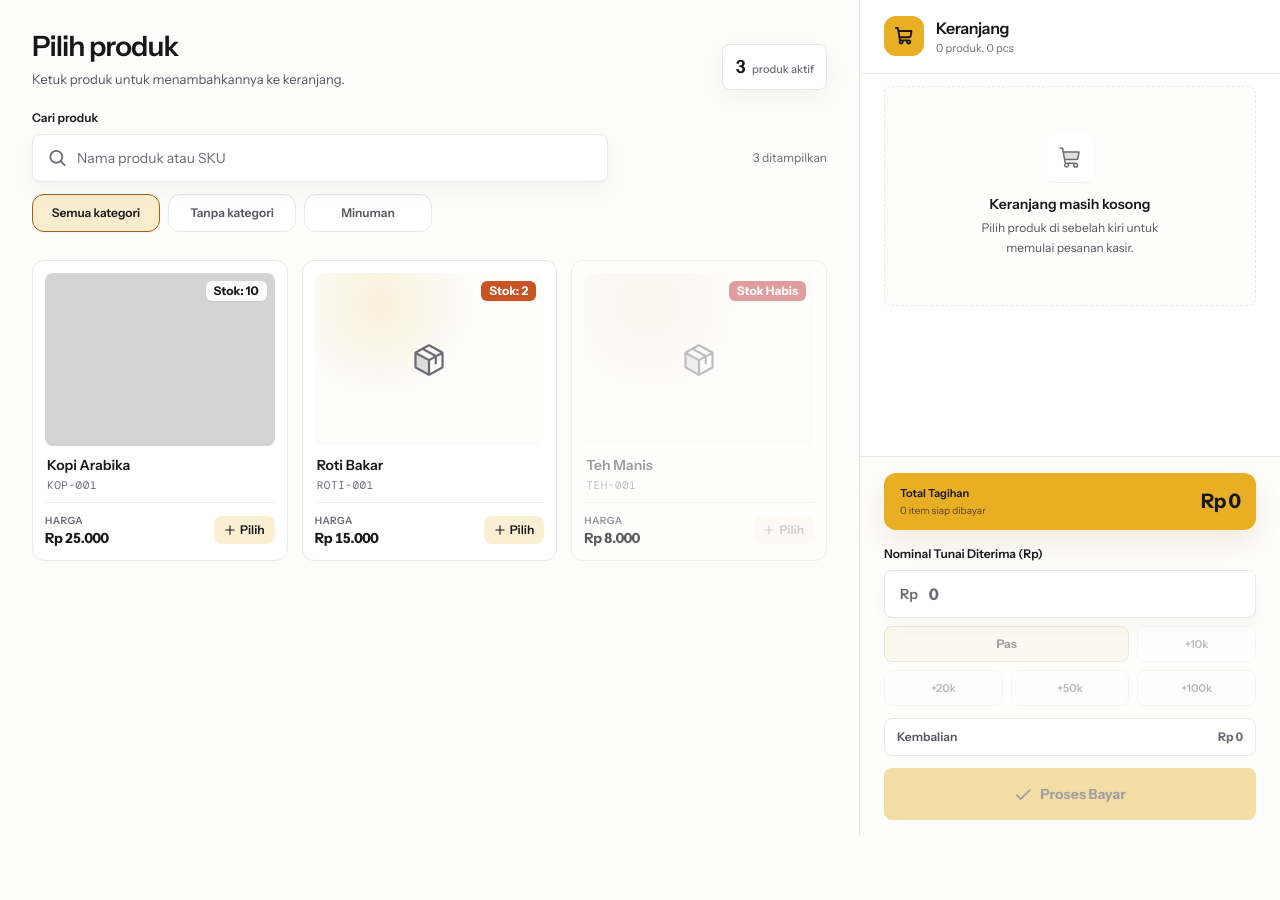
Test: CheckoutView Component › preserves the exact same idempotencyKey across retries after a checkout failure
Click the button "Stok: 10 Kopi Arabika KOP-001" at {"x": 160, "y": 388}, box [45,274,275,502]
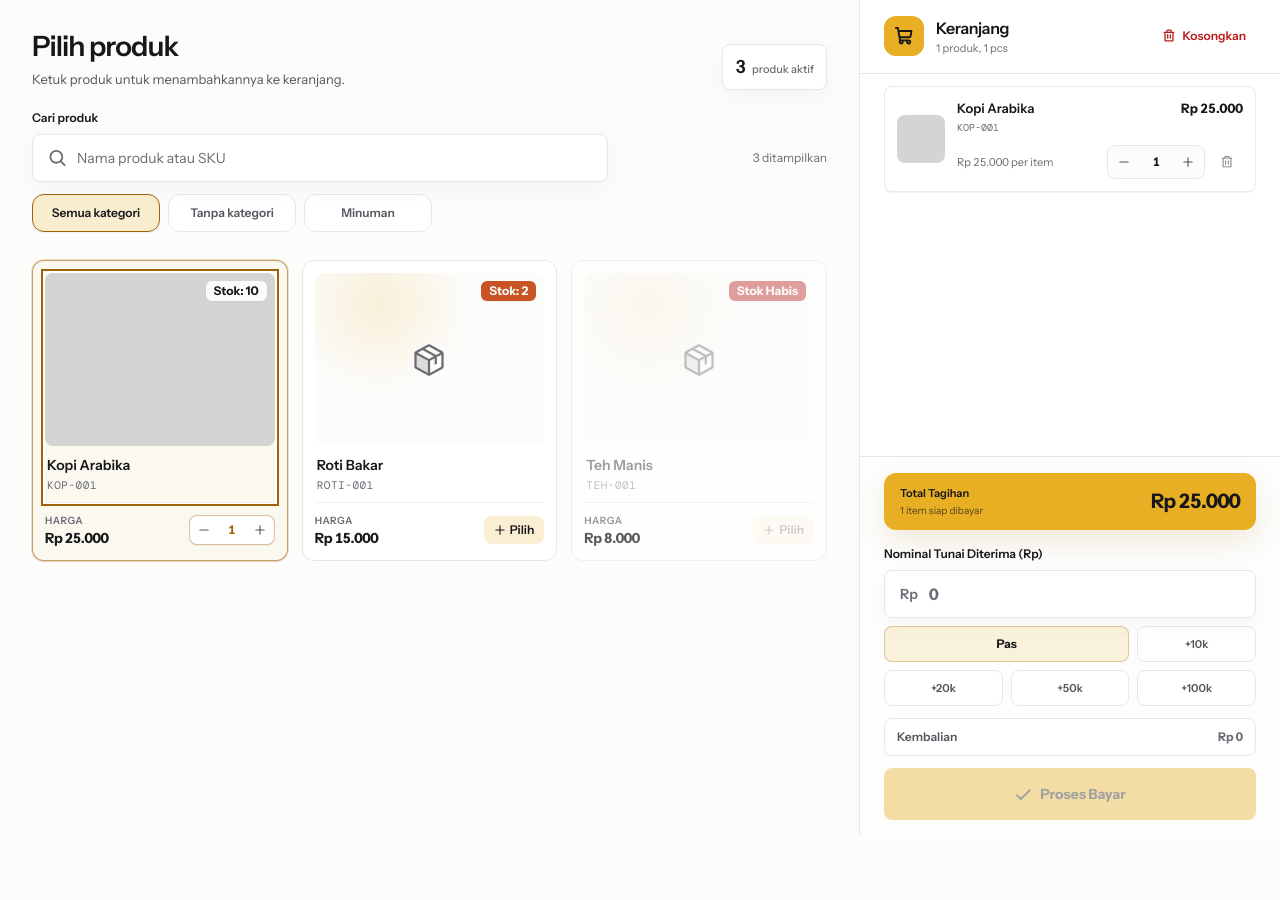
Click the button "Pas" at {"x": 1007, "y": 644}, box [884,626,1129,662]
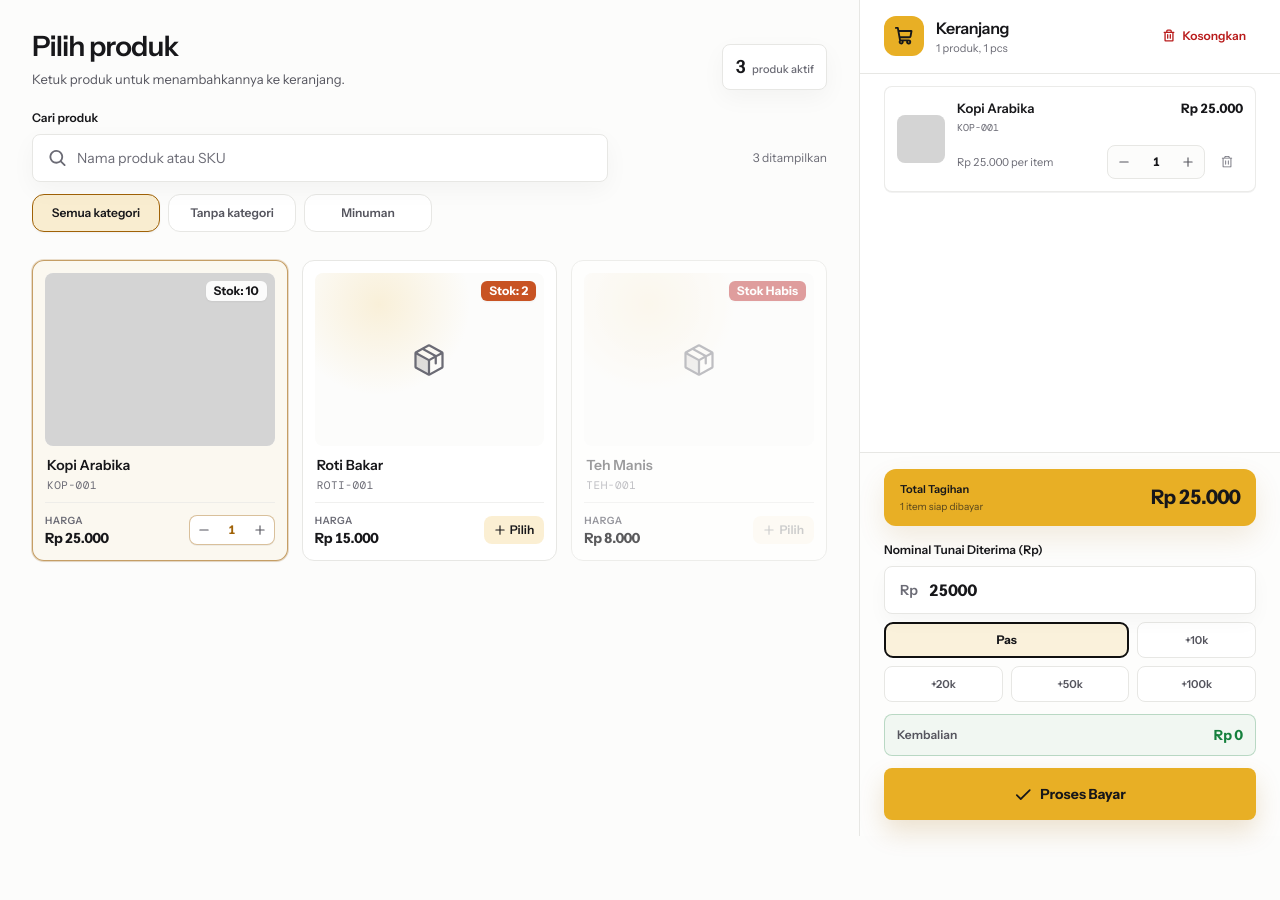
// Attempt 1: Fails due to network error
Click the button "Proses Bayar" at {"x": 1070, "y": 794}, box [884,768,1256,820]
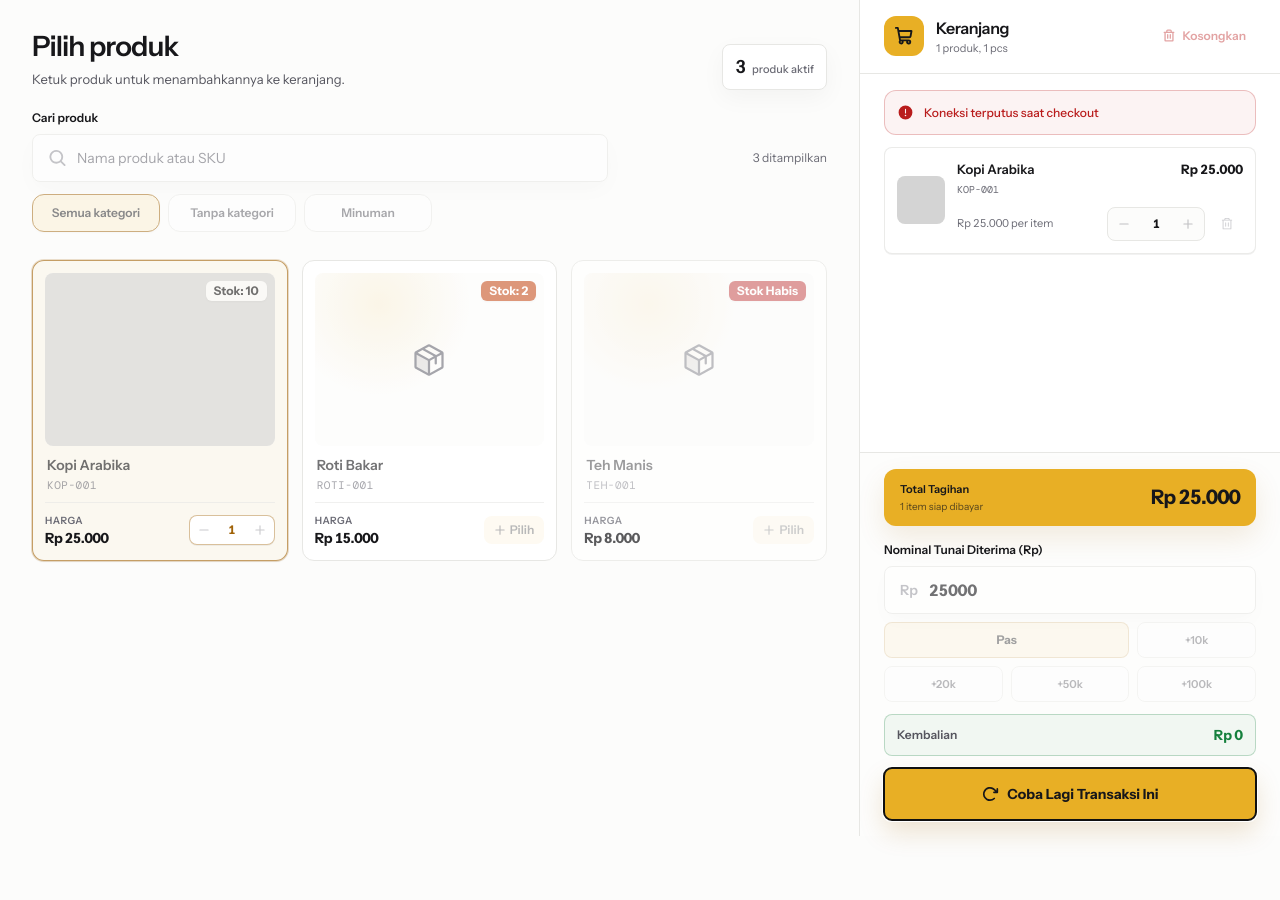
Result: the text "Koneksi terputus saat checkout" is shown at [924,104,1099,120]
// Attempt 2: Kasir retries payment without modifying cart
Click the button named "proses bayar" at {"x": 1070, "y": 794}, box [884,768,1256,820]
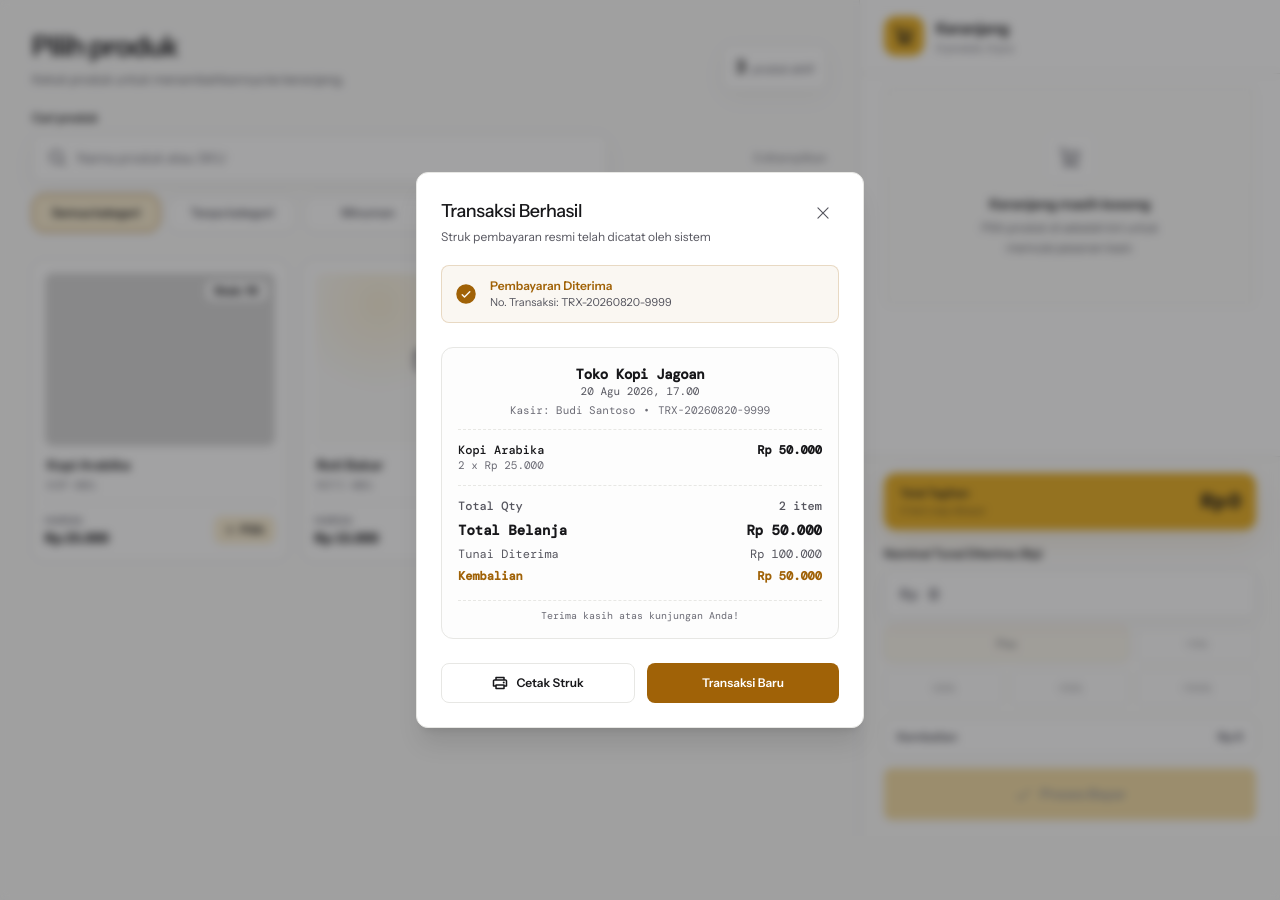
Result: the text "TRX-20260820-9999" is shown at [658,403,770,418]
